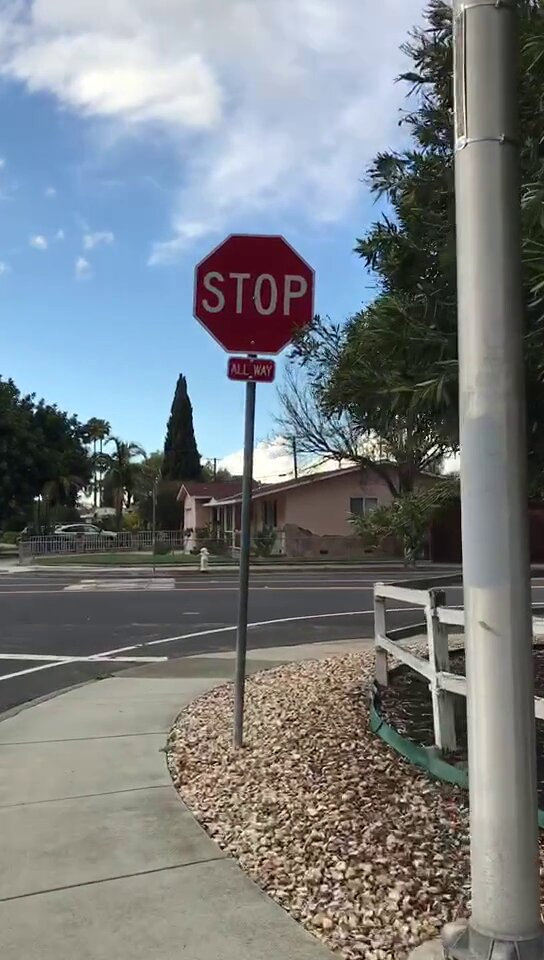stop_sign: (196, 235, 316, 356)
